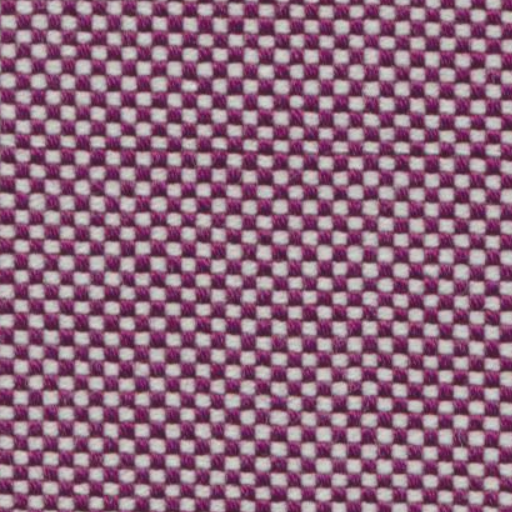TuoSha: (12, 118, 496, 194)
